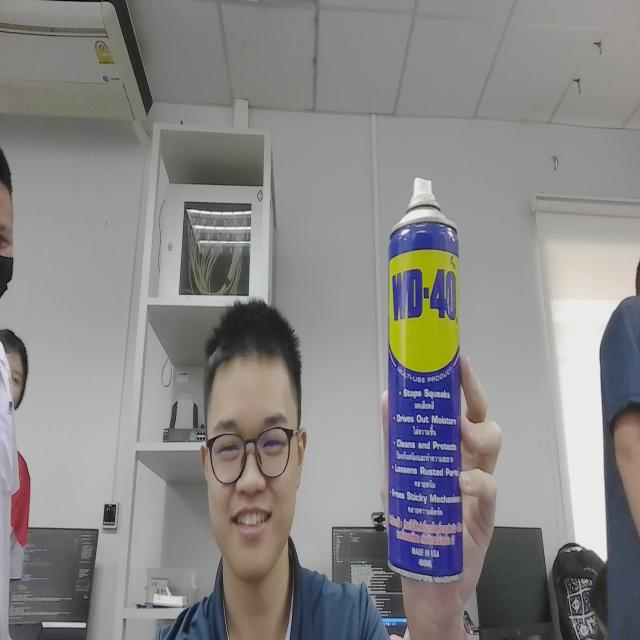wd-40: (376, 149, 474, 592)
